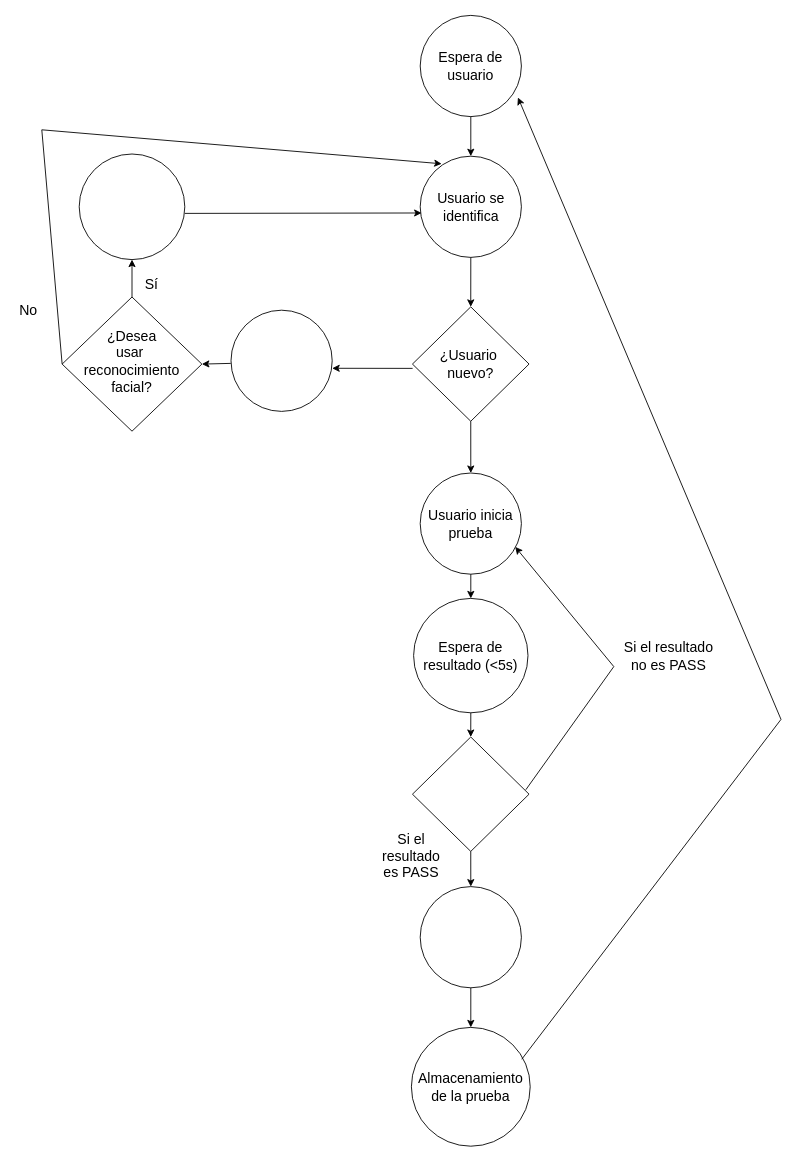
Some shapes in this 803 by 1162 pixel diagram are drawn without their labels. Each missing label, with the centre of its shape:
Inicia proceso de identificación facial: (x=131, y=206)
Muestra del resultado: (x=470, y=937)
Revisión de resultado: (x=470, y=793)
Usuario ingresa nombre y escanea carnet: (x=281, y=360)
